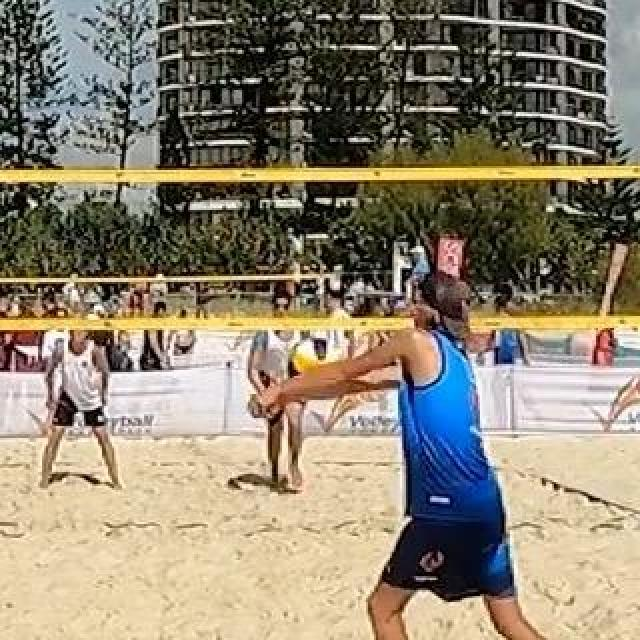volleyball: (285, 334, 343, 392)
